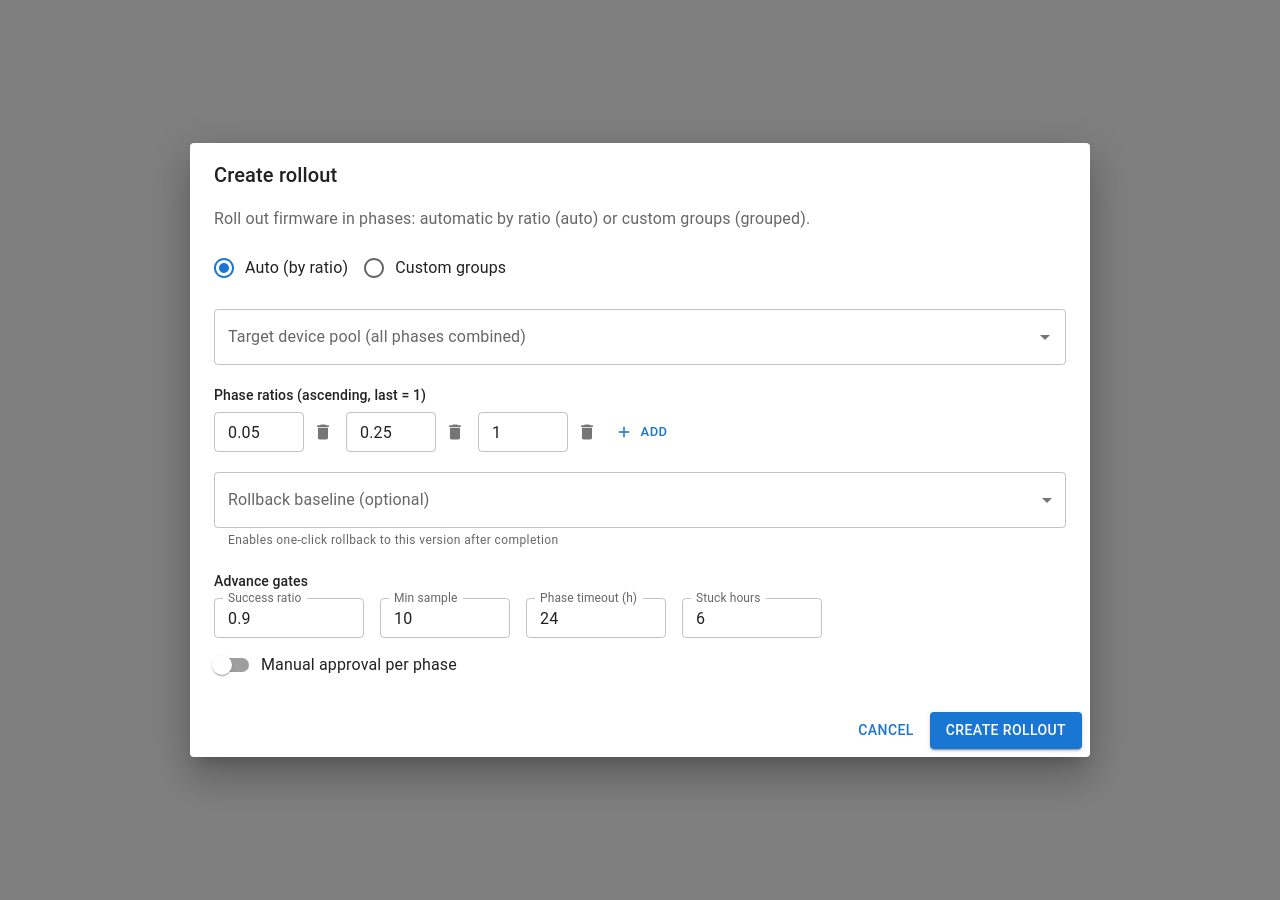
RolloutCreateDialog validation › auto strategy: rejecting non-positive gating values
Step 1. Click the dropdown labelled "Target device pool (all phases combined)" → point(625, 337), box [223, 318, 1027, 356]
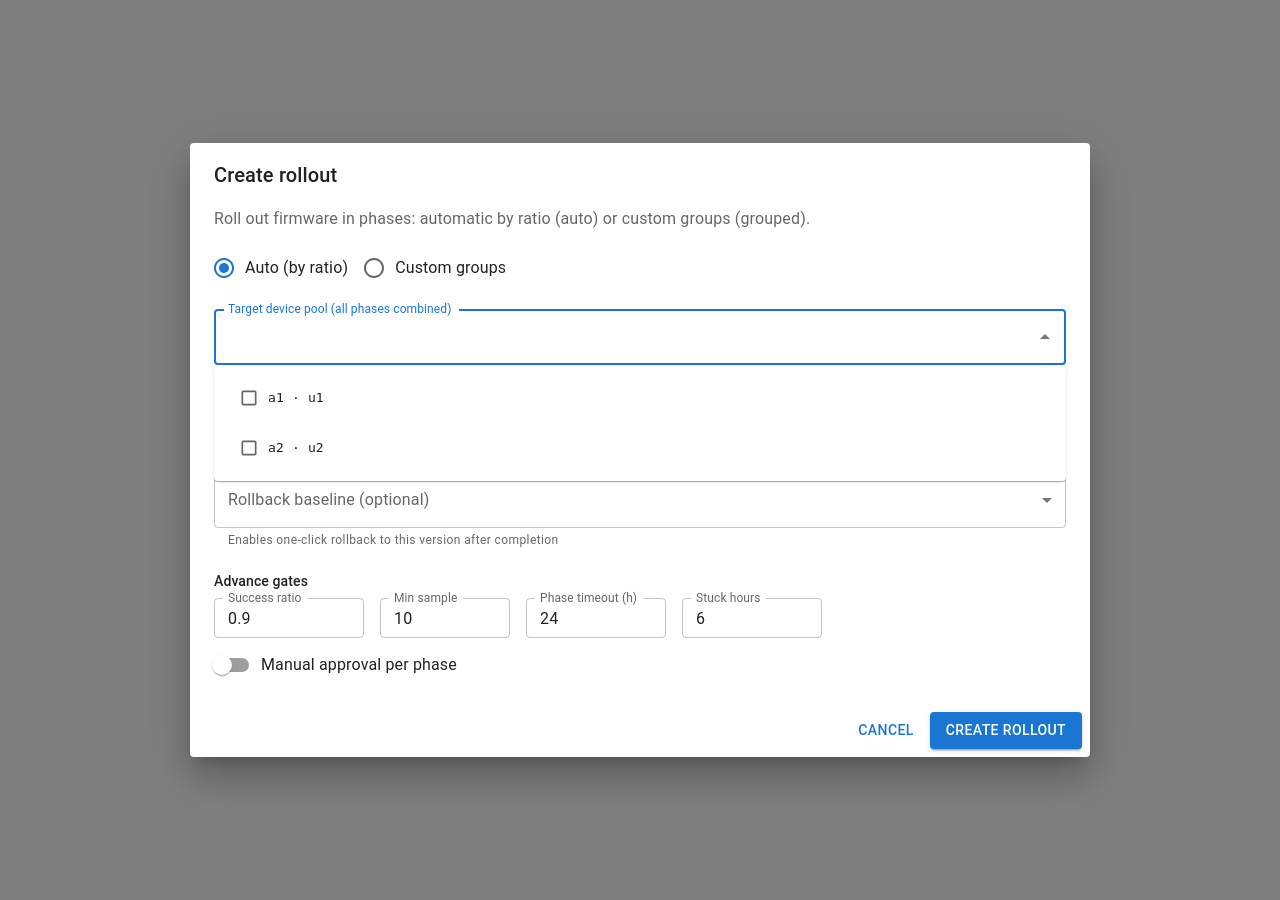
Step 2. Click the option "a1 · u1" → point(281, 398), box [239, 388, 324, 408]
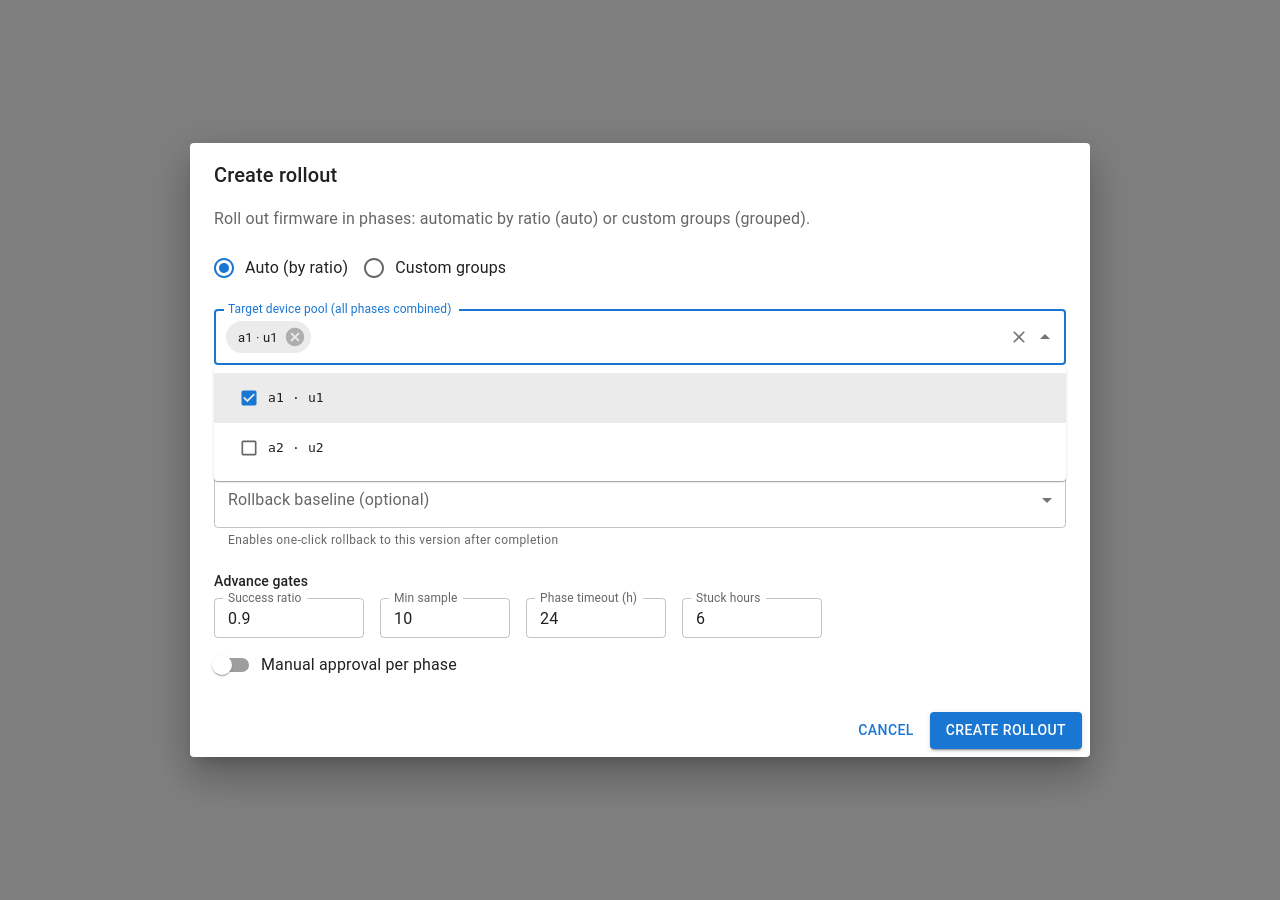
Step 3. Replace the text in the number field labelled "Min sample" with "0" → point(445, 618), box [380, 598, 510, 638]
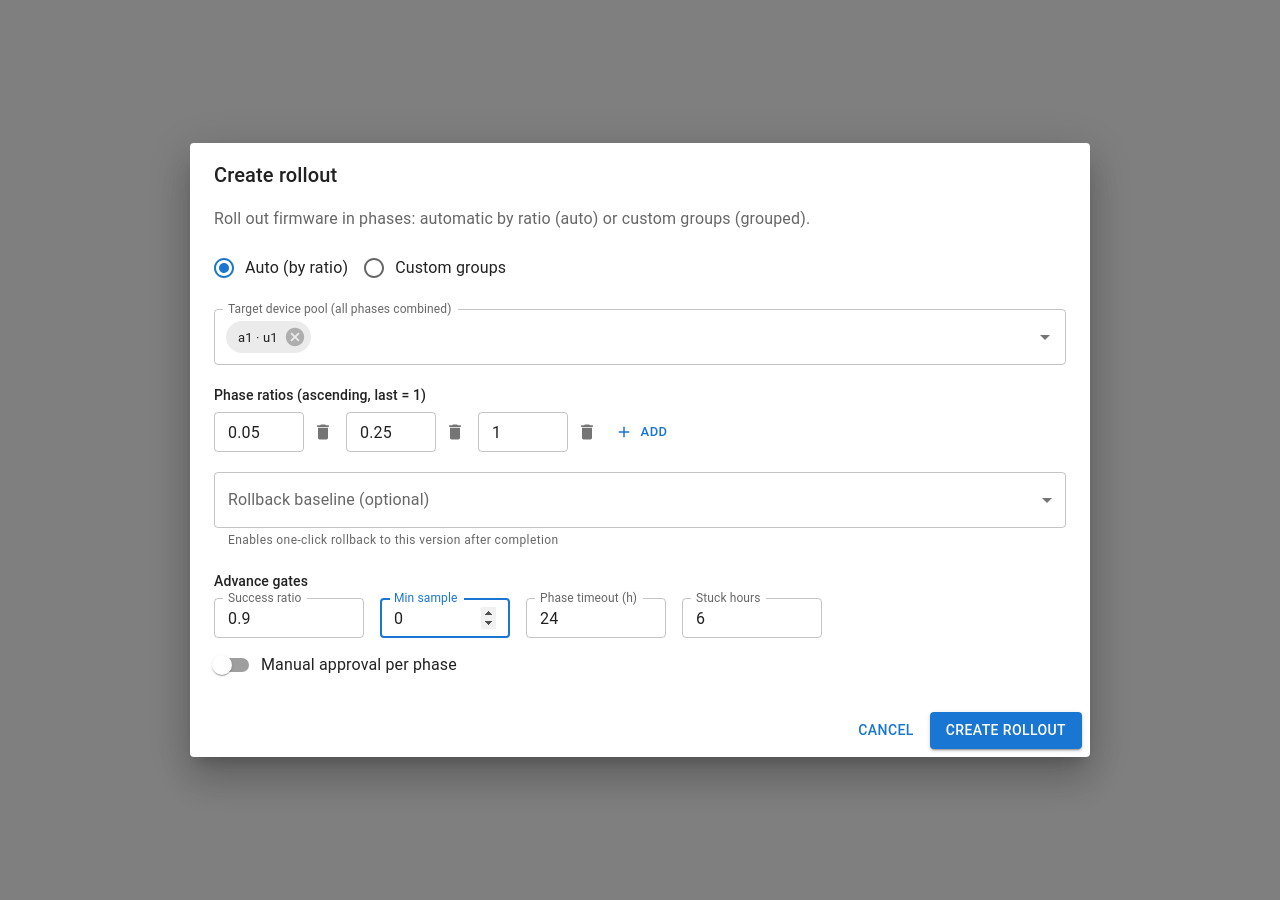
Step 4. Submit the form, box [190, 143, 1090, 756]
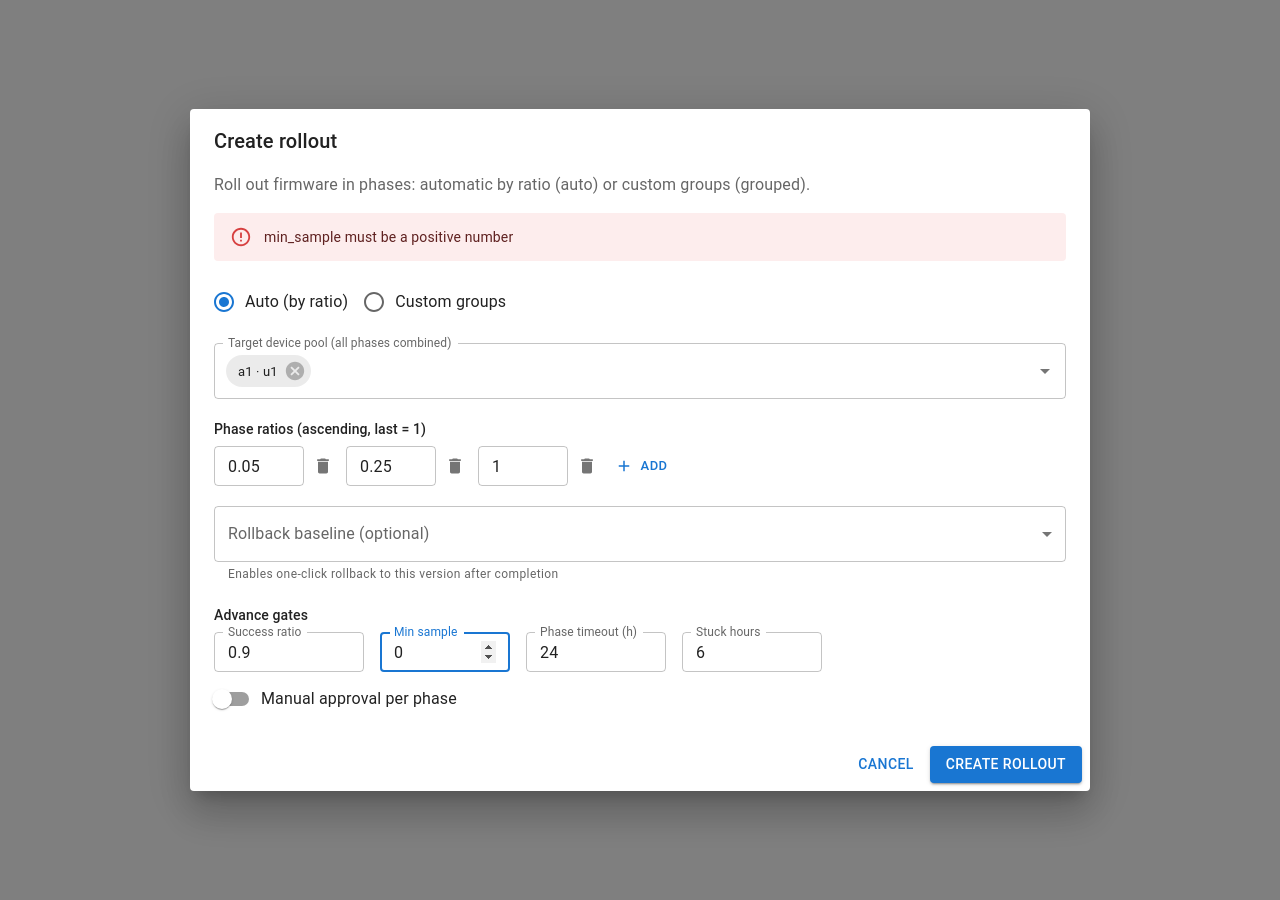
Now the text "min_sample must be a positive number" is shown, box [264, 229, 513, 245]
